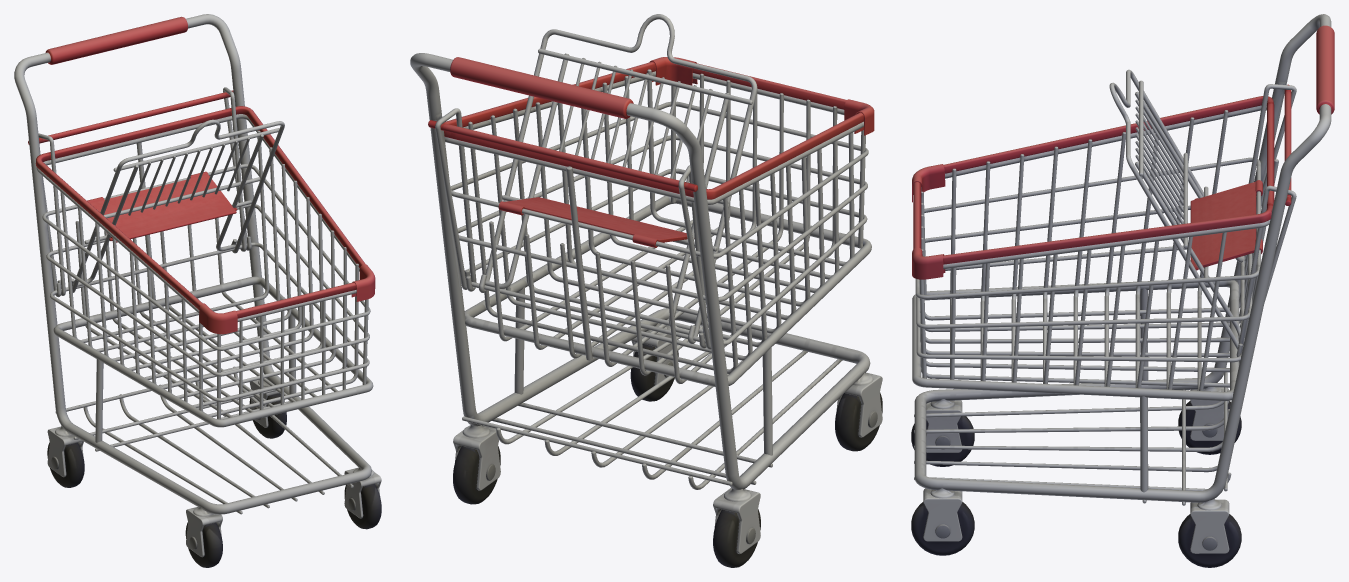
File: carro.glb
3 renders of one model, left to right at view 1: azimuth 30°, elevation 25°; view 2: azimuth 150°, elevation 25°; view 3: azimuth 270°, elevation 25°, orthographic. The views are drawn at different scales.
Parts seen in each view (by area): view 1: node_id34_1; view 2: node_id34_1; view 3: node_id34_1.
Part boxes in pixels (box(x1,y1,x2,y2)): node_id34_1: box(14, 14, 381, 567); node_id34_1: box(410, 14, 882, 567); node_id34_1: box(911, 14, 1334, 567).
Bounding box in the file's own units: 0.2503 × 0.4139 × 0.3553.
1 material, 1 textured.
